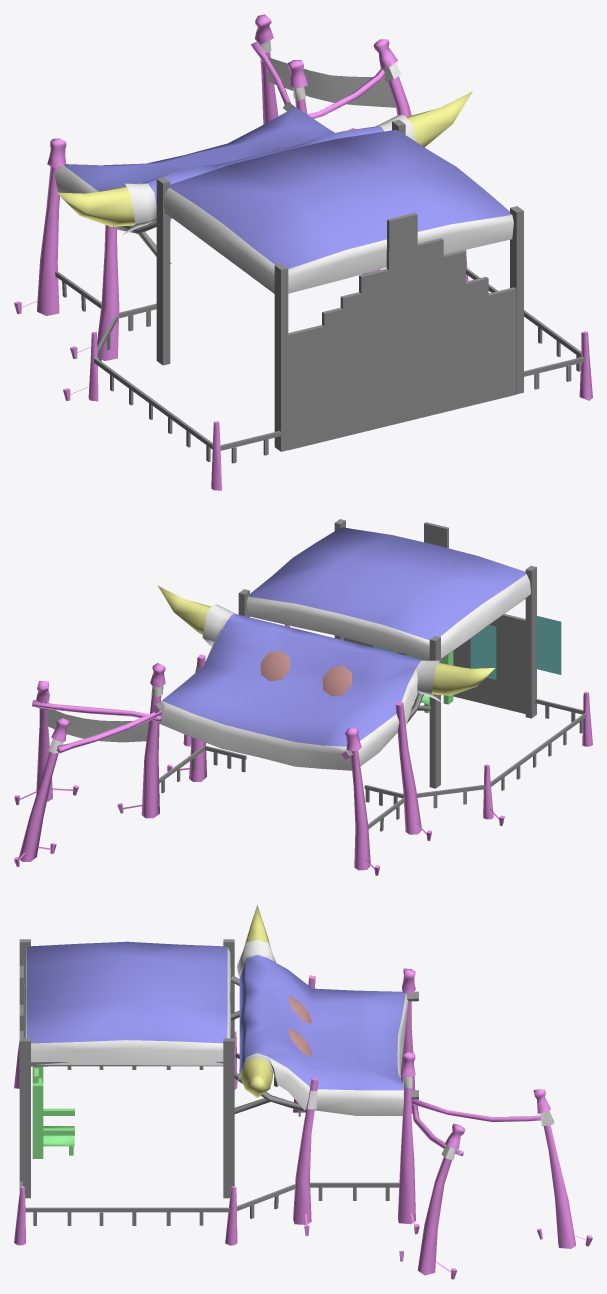
The model's file is pm_landmark_camp02.gltf.
3 views of the same model, one above another, from view 1: azimuth 30°, elevation 25°; view 2: azimuth 150°, elevation 25°; view 3: azimuth 270°, elevation 25° (orthographic). The views are drawn at different scales.
Parts seen in each view (by area): view 1: pm_landmark_camp02; view 2: pm_landmark_camp02; view 3: pm_landmark_camp02.
Boxes of the visible parts, x1=… form: pm_landmark_camp02: x1=14, y1=14, x2=592, y2=490; pm_landmark_camp02: x1=14, y1=519, x2=592, y2=875; pm_landmark_camp02: x1=14, y1=905, x2=592, y2=1279.
Bounding box in the file's own units: 6.37 × 2.87 × 7.71.
